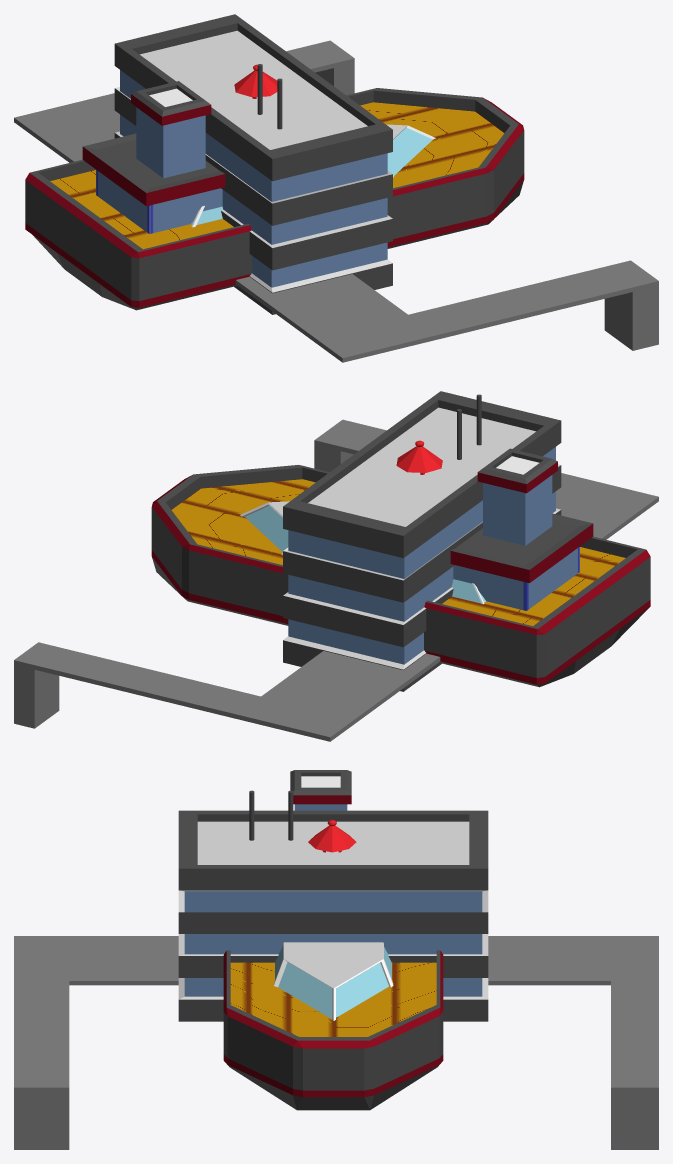
Rendered from buildingsPart11.fbx.
3 views of the same model, one above another, from view 1: azimuth 30°, elevation 25°; view 2: azimuth 150°, elevation 25°; view 3: azimuth 270°, elevation 25° (orthographic).
Parts seen in each view (by area): view 1: Cube.005, Cube.004, Cube.003, Cube.007, Cube; view 2: Cube.005, Cube.004, Cube.003, Cube.007, Cube; view 3: Cube.004, Cube.003, Cube.005, Cube.007, Cube.
Boxes of the visible parts, x1,y1,x2,y2 form: Cube.005: (25, 81, 524, 310); Cube.004: (114, 14, 392, 314); Cube.003: (14, 40, 658, 362); Cube.007: (191, 124, 435, 227); Cube: (234, 64, 277, 98); Cube.005: (151, 448, 650, 687); Cube.004: (283, 391, 561, 691); Cube.003: (14, 419, 658, 741); Cube.007: (240, 501, 485, 604); Cube: (396, 440, 442, 474); Cube.004: (178, 790, 488, 1021); Cube.003: (14, 936, 658, 1149); Cube.005: (223, 770, 443, 1110); Cube.007: (273, 942, 393, 1020); Cube: (308, 820, 356, 852).
Size of the model in its own units: 4922 by 2621 by 6528.
Materials: 1 (1 with a texture image).
